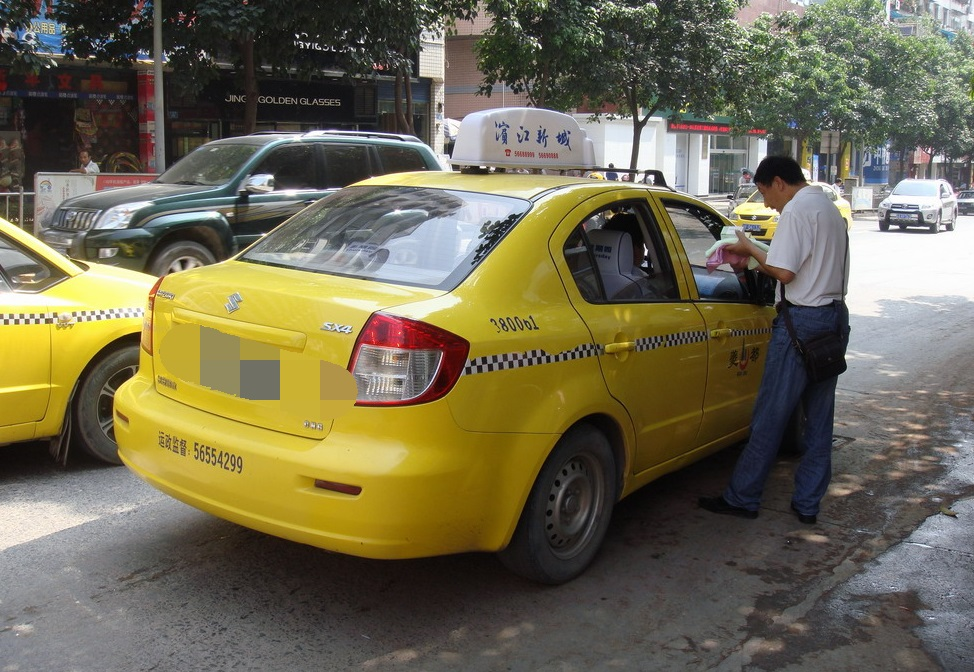taxi: (107, 107, 838, 591)
